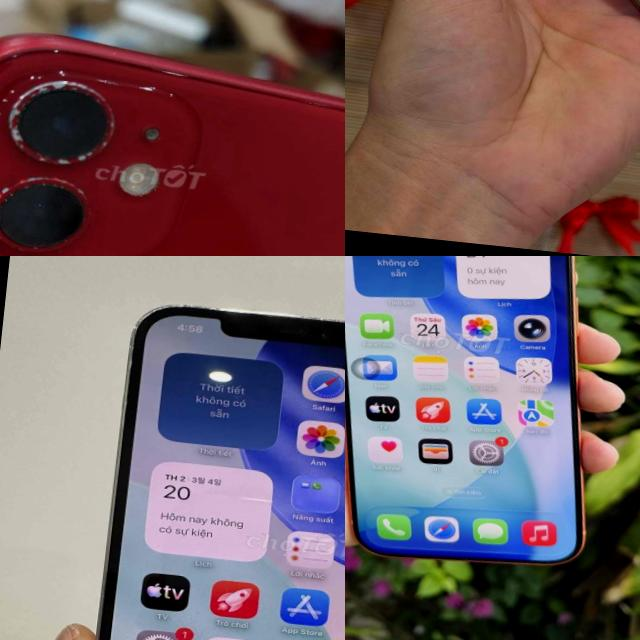scratch: (0, 46, 190, 256)
